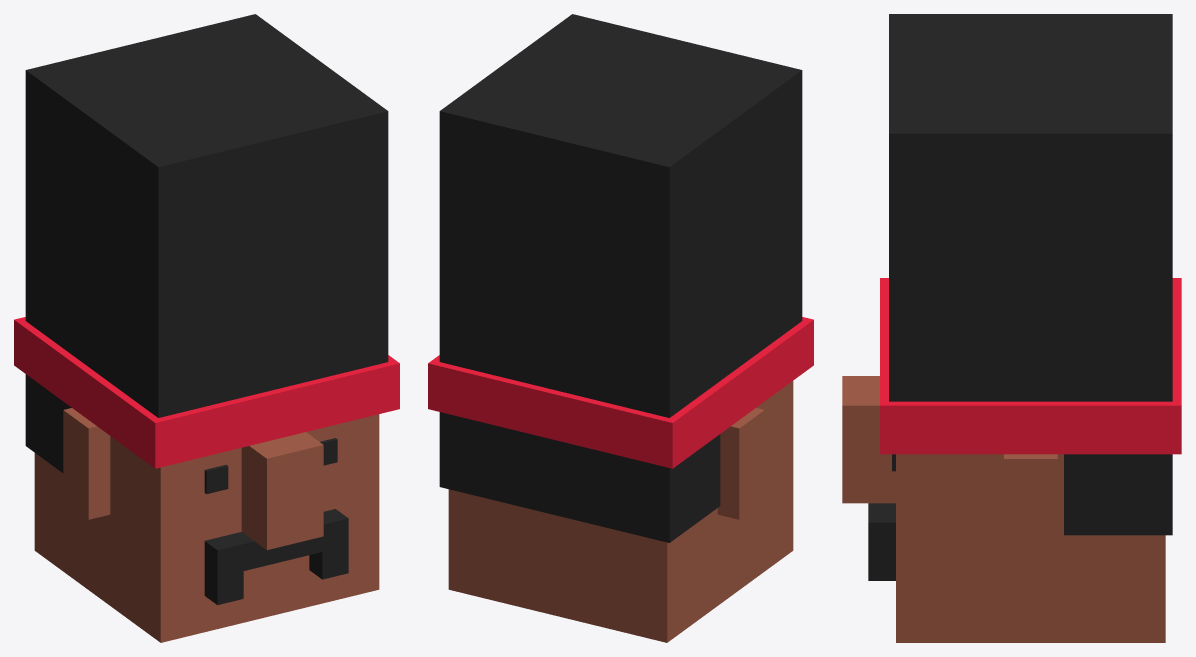
Rendered from head08.fbx.
3 views of the same model, side by side, from view 1: azimuth 30°, elevation 25°; view 2: azimuth 150°, elevation 25°; view 3: azimuth 270°, elevation 25° (orthographic). The views are drawn at different scales.
Parts seen in each view (by area): view 1: Hair, Head, Headband, Nose, Mustache, Ears, Eyes; view 2: Hair, Head, Headband, Ears; view 3: Hair, Head, Headband, Nose, Ears, Mustache.
Boxes of the visible parts, x1,y1,x2,y2 form: Hair: (25, 14, 388, 472); Head: (34, 414, 379, 642); Headband: (14, 317, 399, 468); Nose: (241, 432, 323, 549); Mustache: (204, 509, 348, 605); Ears: (63, 408, 110, 519); Eyes: (204, 438, 337, 494); Hair: (439, 14, 802, 542); Head: (448, 381, 793, 642); Headband: (428, 317, 813, 468); Ears: (717, 408, 764, 519); Hair: (889, 14, 1172, 535); Head: (896, 454, 1165, 642); Headband: (880, 278, 1181, 454); Nose: (842, 376, 895, 503); Ears: (1004, 454, 1057, 556); Mustache: (868, 503, 895, 580).
Bounding box in the file's own units: 36.5 × 63.79 × 38.32.
